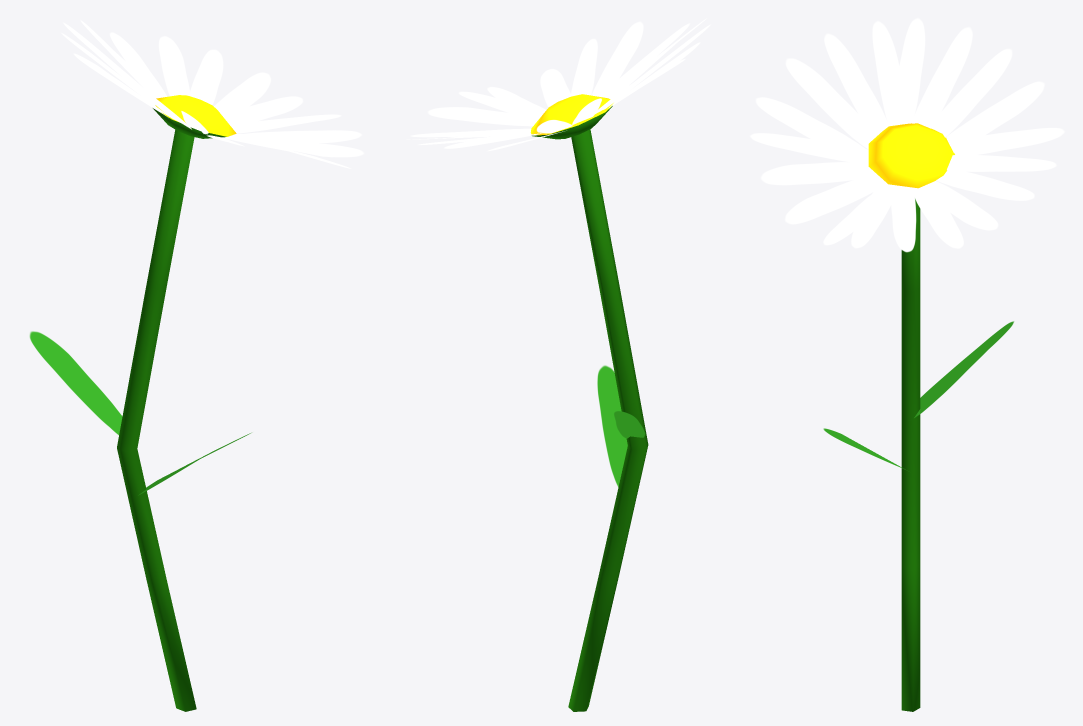
File: flower-daisy.glb
3 renders of one model, left to right at view 1: azimuth 30°, elevation 25°; view 2: azimuth 150°, elevation 25°; view 3: azimuth 270°, elevation 25°, orthographic. The views are drawn at different scales.
Visible parts, largest first — view 1: Cylinder.002; view 2: Cylinder.002; view 3: Cylinder.002.
Boxes of the visible parts, bbox=[...] form: Cylinder.002: bbox=[29, 20, 364, 711]; Cylinder.002: bbox=[406, 18, 710, 711]; Cylinder.002: bbox=[750, 18, 1064, 711].
Size of the model in its own units: 0.3599 by 0.8431 by 0.3853.
Materials: 4 (2 with a texture image).
